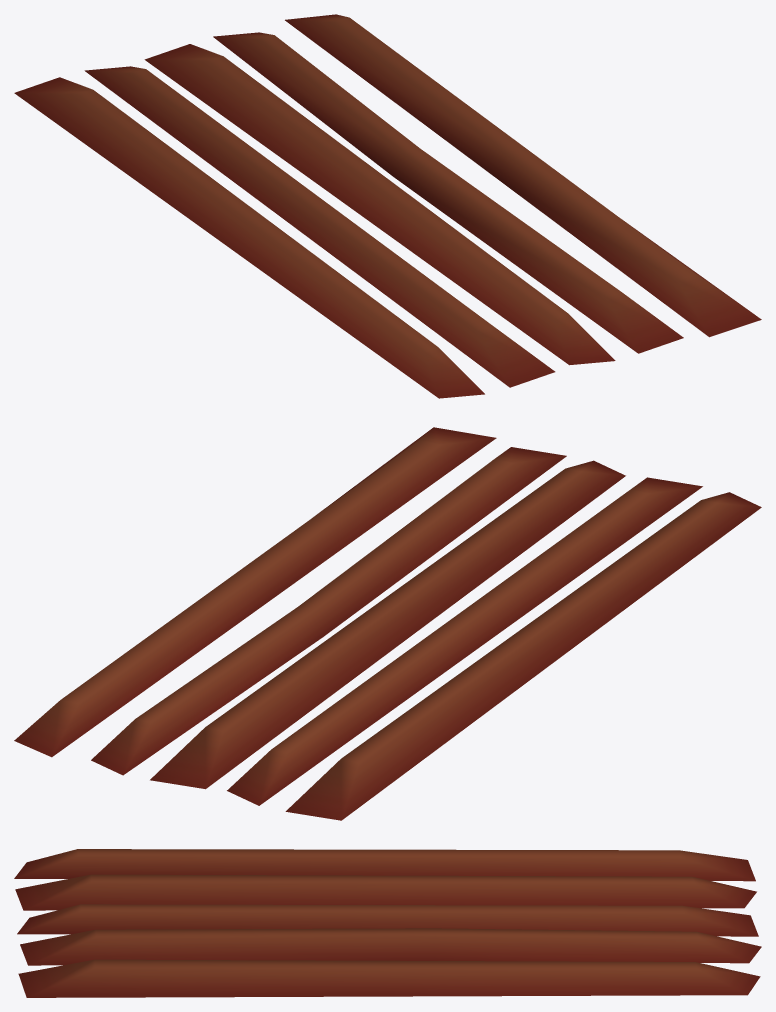
The model's file is SM_Field_01.fbx.
3 renders of one model, top to bottom at view 1: azimuth 30°, elevation 25°; view 2: azimuth 150°, elevation 25°; view 3: azimuth 270°, elevation 25°, orthographic. The views are drawn at different scales.
Parts seen in each view (by area): view 1: SM_Field_01; view 2: SM_Field_01; view 3: SM_Field_01.
Part boxes in pixels (<box>): SM_Field_01: <box>14,14,761,398</box>; SM_Field_01: <box>14,427,761,820</box>; SM_Field_01: <box>14,849,761,997</box>.
Bounding box in the file's own units: 3.3 × 0.2149 × 7.57.
